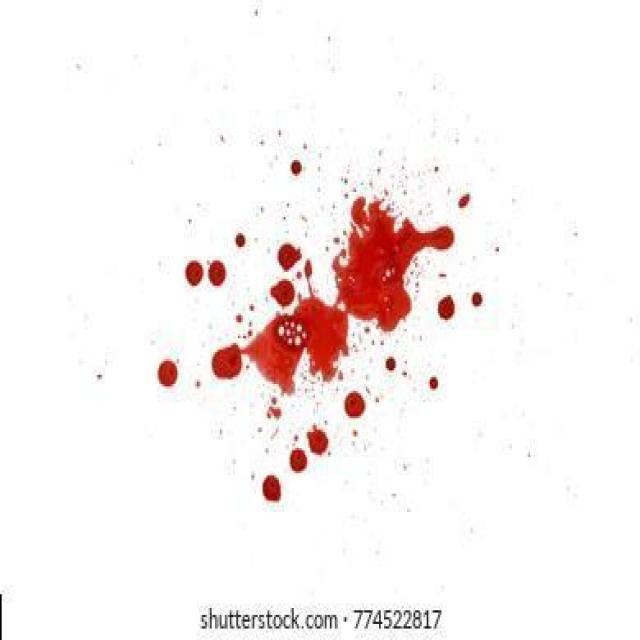knife: (323, 184, 428, 349), (292, 294, 352, 380), (245, 313, 306, 394), (210, 343, 242, 381), (267, 277, 296, 307), (277, 242, 303, 272), (428, 226, 454, 252), (156, 359, 178, 388), (344, 391, 366, 419), (261, 473, 281, 502), (184, 259, 204, 288), (308, 430, 329, 456), (207, 260, 227, 286), (290, 448, 309, 474), (436, 295, 454, 320), (266, 406, 282, 422), (458, 192, 472, 209), (471, 291, 484, 307), (289, 160, 302, 175), (385, 356, 396, 372), (235, 233, 246, 247), (428, 376, 439, 389)
